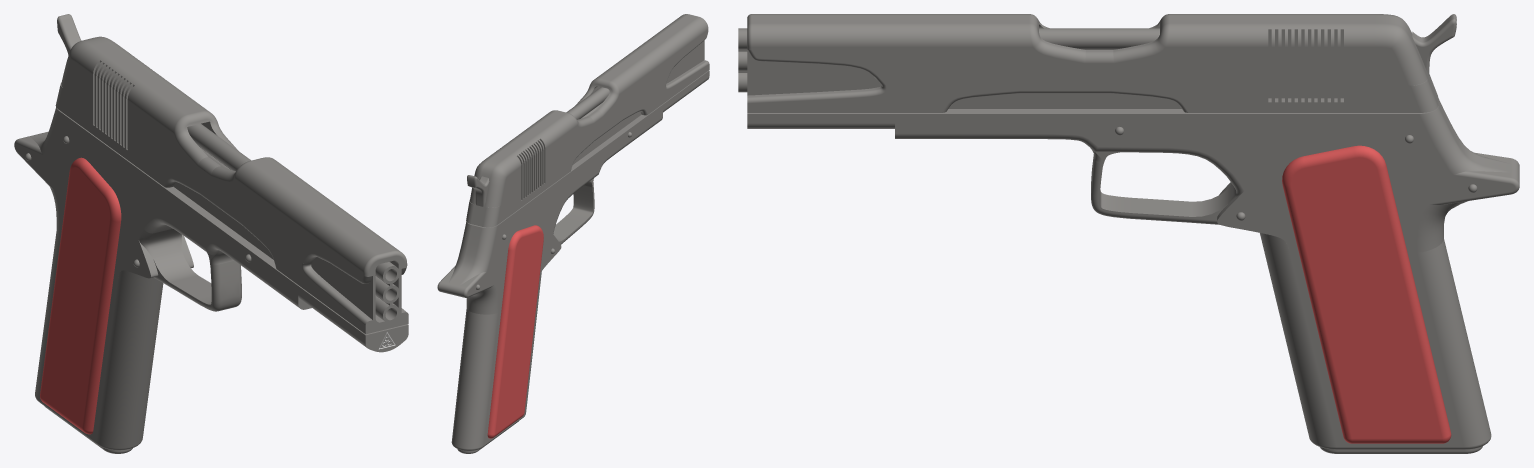
The model's file is fps v7.fbx.
The picture shows the model from 3 angles, left to right: view 1: azimuth 30°, elevation 25°; view 2: azimuth 150°, elevation 25°; view 3: azimuth 270°, elevation 25°; orthographic projection. The views are drawn at different scales.
Visible parts, largest first — view 1: Body1, Body2, Body3, Body4; view 2: Body1, Body2, Body3, Body4; view 3: Body1, Body2, Body3, Body4.
Boxes of the visible parts, <box> form: Body1: <box>14,107,408,453</box>; Body2: <box>55,36,408,334</box>; Body3: <box>187,123,399,322</box>; Body4: <box>57,14,81,55</box>; Body1: <box>437,70,709,453</box>; Body2: <box>466,14,709,227</box>; Body3: <box>566,87,609,119</box>; Body4: <box>467,175,489,206</box>; Body1: <box>747,98,1519,453</box>; Body2: <box>747,14,1438,112</box>; Body3: <box>738,28,1159,92</box>; Body4: <box>1412,14,1456,75</box>.
Bounding box in the file's own units: 40 × 263 × 431.
